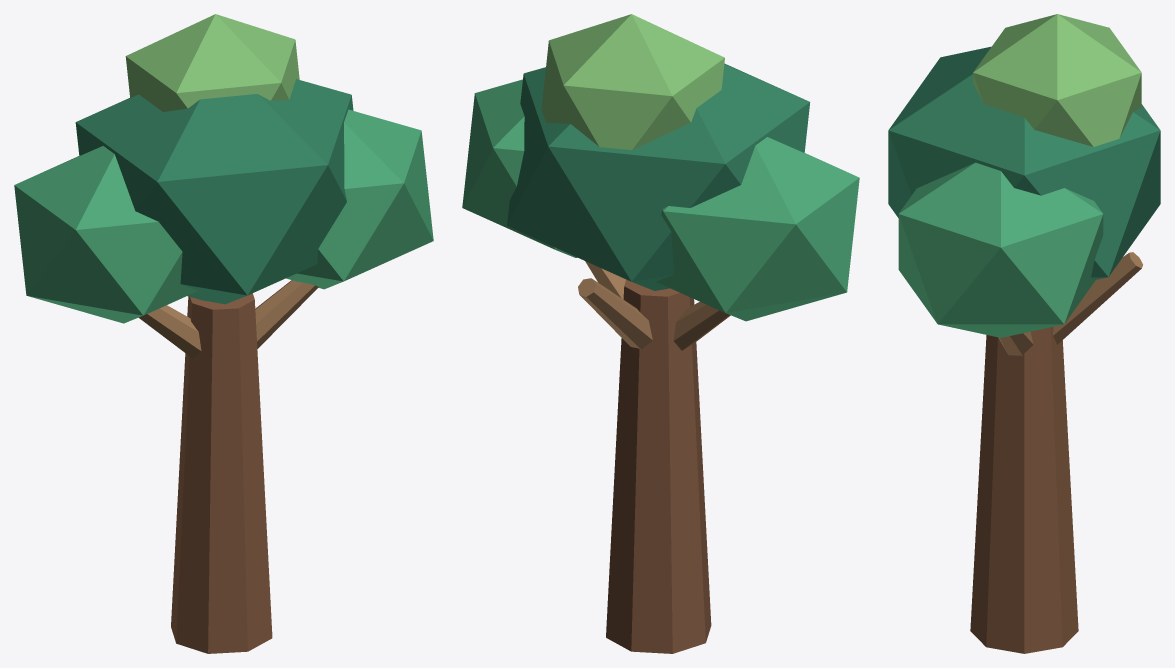
The model's file is arvore-copa-redonda-beco.glb.
The picture shows the model from 3 angles, left to right: view 1: azimuth 30°, elevation 25°; view 2: azimuth 150°, elevation 25°; view 3: azimuth 270°, elevation 25°; orthographic projection. The views are drawn at different scales.
Parts seen in each view (by area): view 1: Copa_Central, Tronco, Copa_Esquerda, Copa_Direita, Copa_Alta, Galho_1, Galho_0; view 2: Copa_Central, Tronco, Copa_Esquerda, Copa_Alta, Copa_Direita, Galho_2, Galho_0, Galho_1; view 3: Tronco, Copa_Direita, Copa_Central, Copa_Alta, Galho_2, Galho_1.
Boxes of the visible parts, x1,y1,x2,y2 form: Copa_Central: (75,79,353,304); Tronco: (171,293,272,653); Copa_Esquerda: (14,146,197,323); Copa_Direita: (286,109,433,289); Copa_Alta: (125,14,299,111); Galho_1: (255,280,318,348); Galho_0: (139,305,201,358); Copa_Central: (507,63,810,290); Tronco: (606,279,711,653); Copa_Esquerda: (656,137,859,321); Copa_Alta: (541,14,724,149); Copa_Direita: (462,79,577,257); Galho_2: (578,278,652,349); Galho_0: (673,302,730,350); Galho_1: (585,261,626,299); Tronco: (970,327,1078,653); Copa_Direita: (898,162,1103,337); Copa_Central: (888,46,1160,279); Copa_Alta: (973,14,1141,146); Galho_2: (1053,252,1142,344); Galho_1: (999,332,1033,355).
Size of the model in its own units: 3.81 by 5.83 by 2.31.
